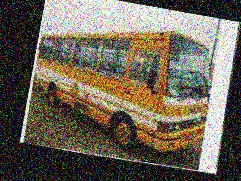bus: (23, 6, 221, 167)
